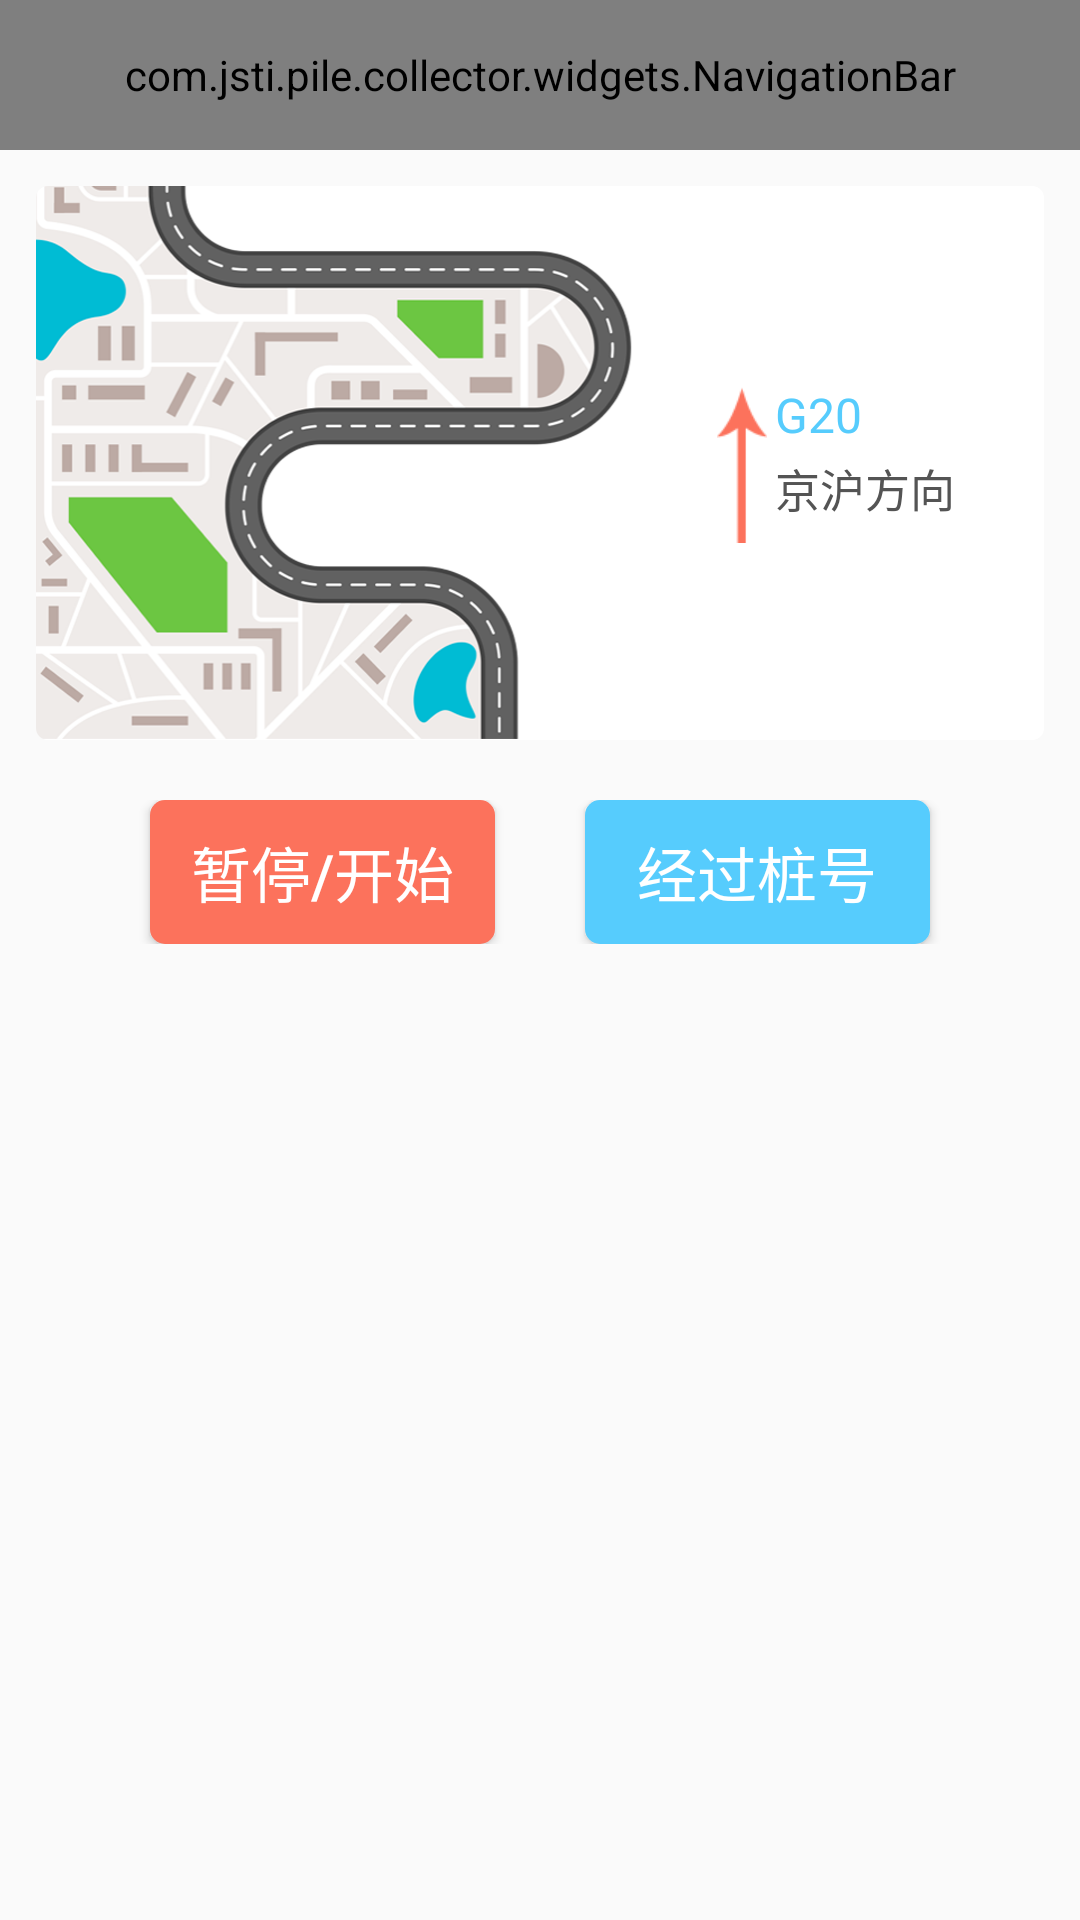

Screen size 1080w x 1920h. Icon name, then its center in pixels as (x=x, y=y):
road direction: (x=742, y=465)
